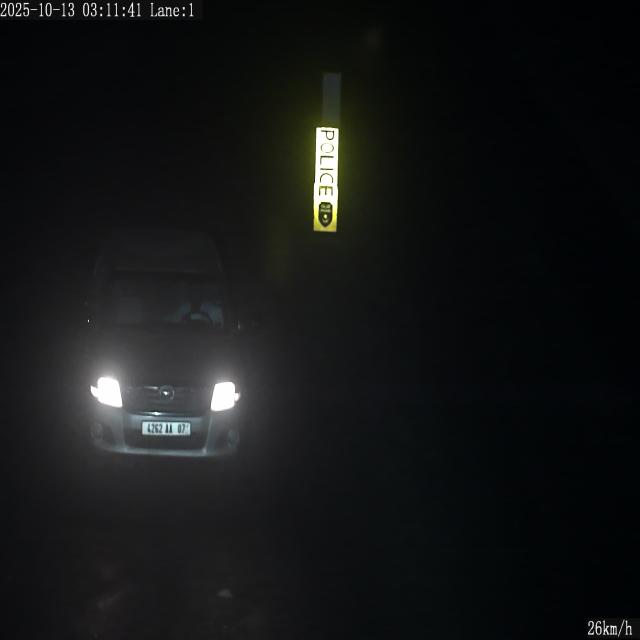BUS: (142, 421, 190, 436)
